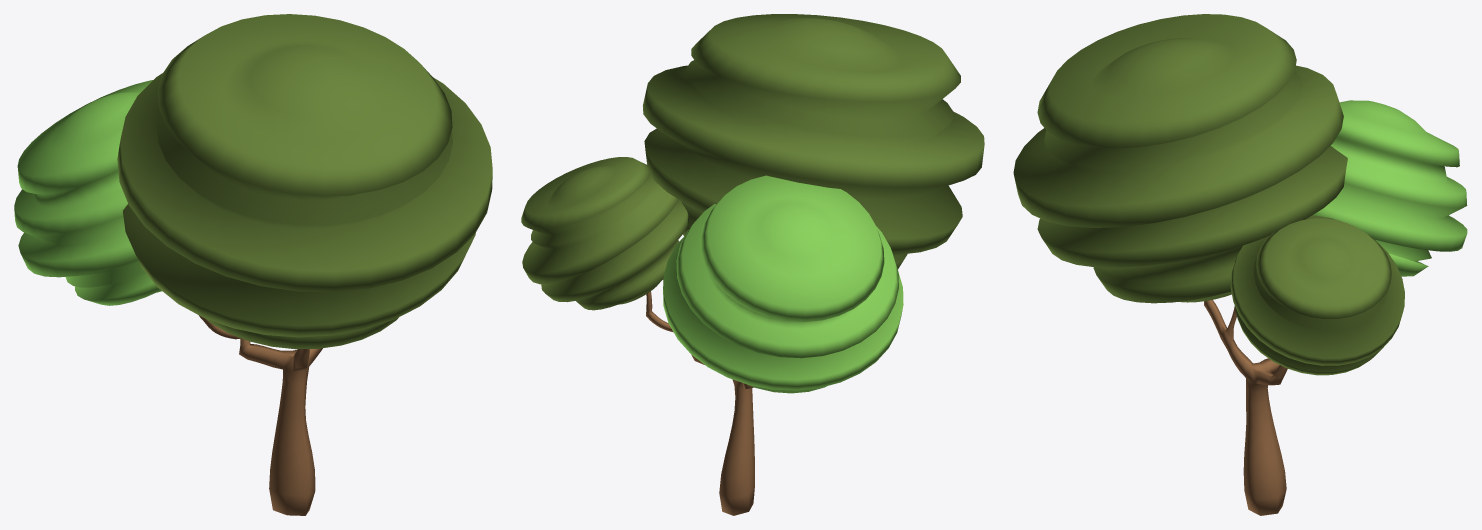
Rendered from treee1.fbx.
3 views of the same model, side by side, from view 1: azimuth 30°, elevation 25°; view 2: azimuth 150°, elevation 25°; view 3: azimuth 270°, elevation 25° (orthographic). The views are drawn at different scales.
Parts seen in each view (by area): view 1: Tree1; view 2: Tree1; view 3: Tree1.
Boxes of the visible parts, <box> form: Tree1: <box>14,14,492,515</box>; Tree1: <box>521,14,984,515</box>; Tree1: <box>1013,14,1467,515</box>.
Bounding box in the file's own units: 1212 × 1423 × 1315.
